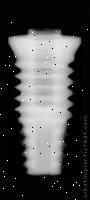Biomet 3i: (7, 30, 82, 177)
